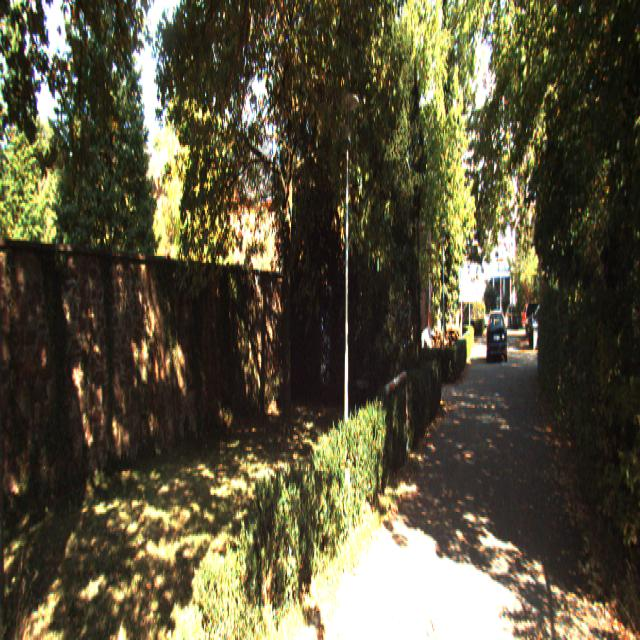Car: (488, 308, 508, 363)
